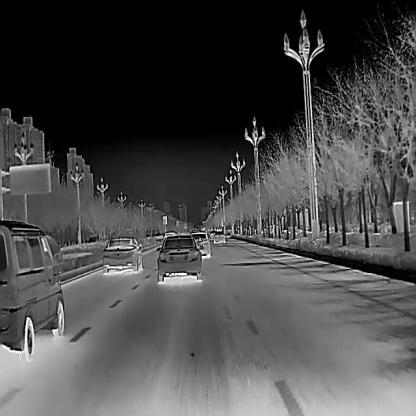car: (0, 218, 65, 362), (155, 233, 204, 281), (101, 236, 143, 273), (189, 229, 212, 258), (213, 232, 226, 245), (209, 229, 217, 239)
